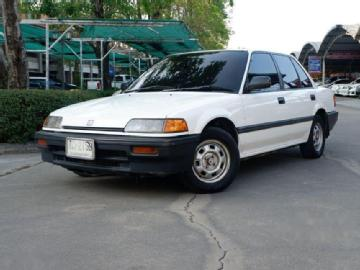sedan: (32, 48, 341, 192)
